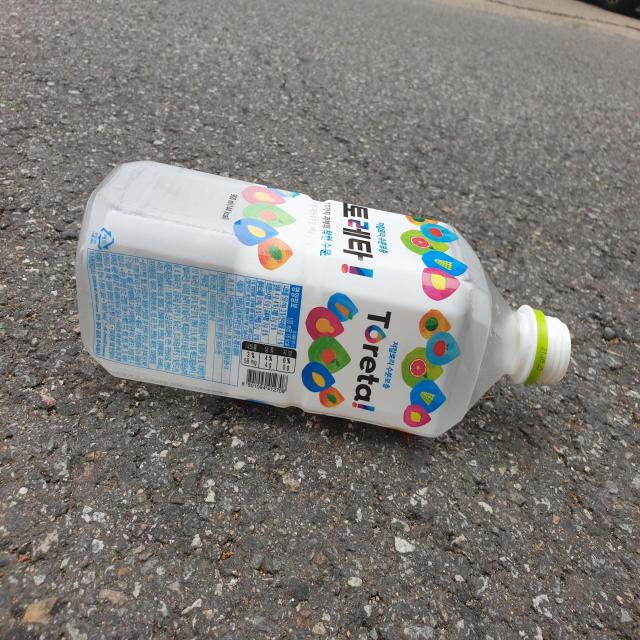plastic: (75, 160, 572, 437)
